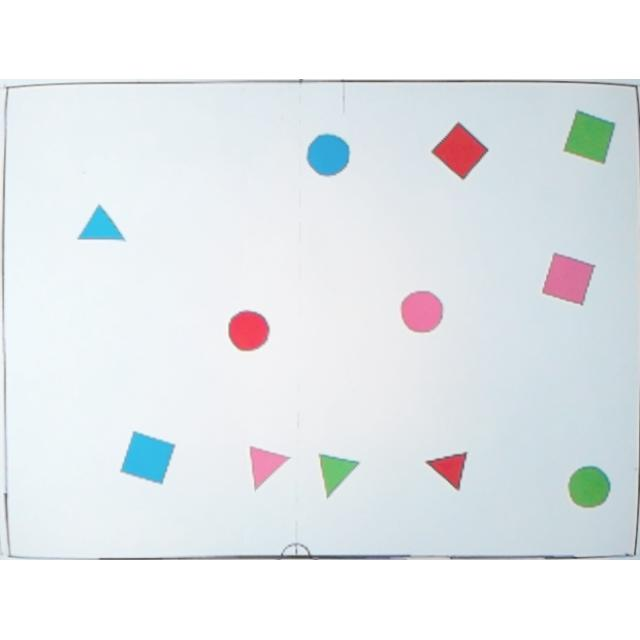blueCircle: (304, 134, 352, 180)
blueSquare: (122, 431, 178, 492)
blueTriangle: (76, 202, 130, 250)
greenCircle: (566, 465, 614, 513)
greenSquare: (562, 109, 618, 167)
greenTriangle: (312, 453, 362, 501)
pinkCircle: (399, 290, 445, 336)
pinkSquare: (541, 251, 597, 307)
pinkTriangle: (244, 445, 294, 493)
redCircle: (225, 308, 271, 354)
redSquare: (430, 122, 490, 182)
redTriangle: (423, 450, 469, 494)
